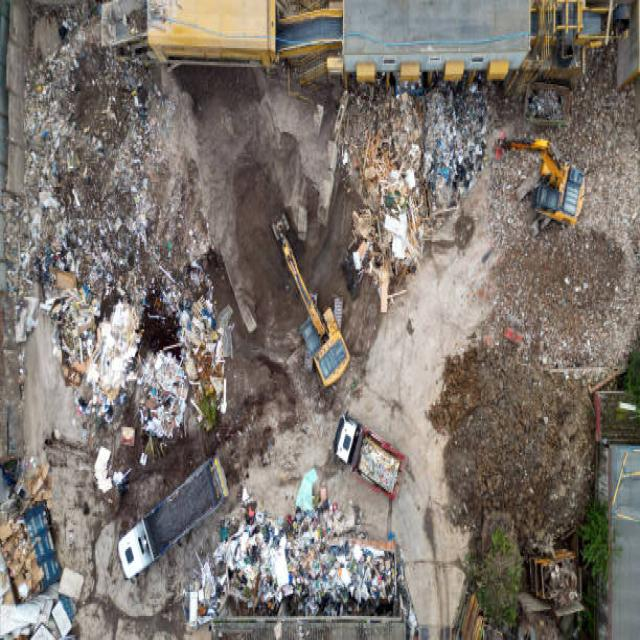cardboard: (363, 170, 421, 312)
paper: (103, 314, 186, 439)
plastic: (215, 530, 382, 606), (190, 290, 250, 431)
